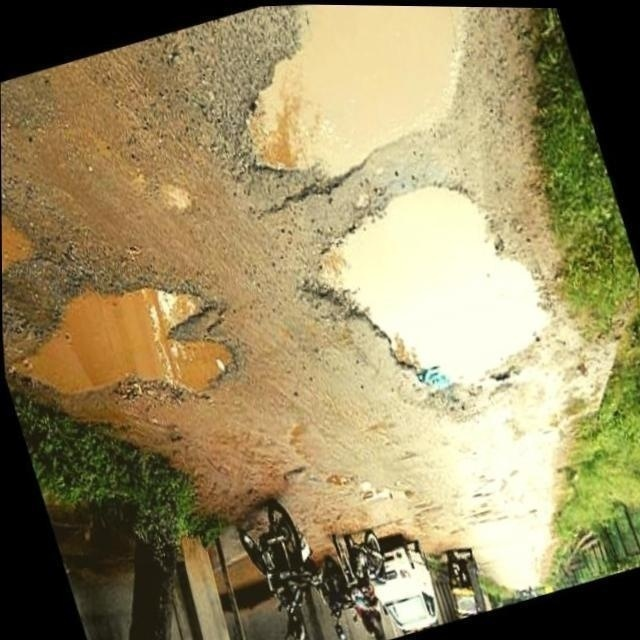pothole: (324, 177, 567, 400), (231, 2, 454, 180), (12, 270, 243, 424)
